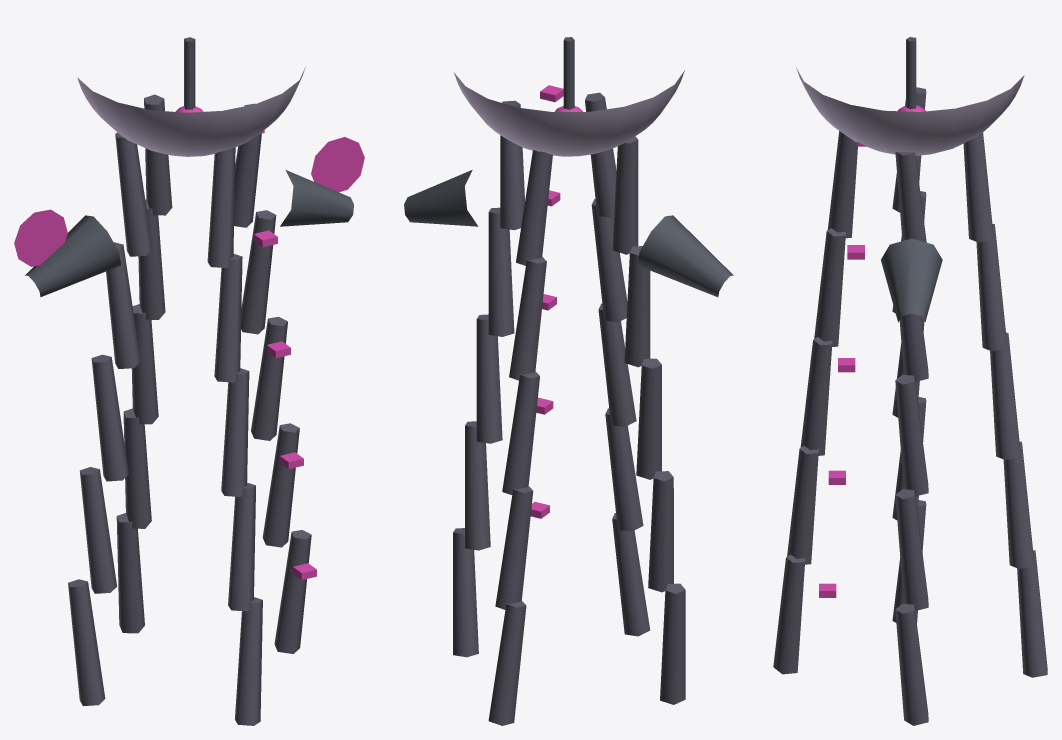
Rendered from grove-lens.glb.
The picture shows the model from 3 angles, left to right: view 1: azimuth 30°, elevation 25°; view 2: azimuth 150°, elevation 25°; view 3: azimuth 270°, elevation 25°; orthographic projection.
Parts seen in each view (by area): view 1: body, crystal; view 2: body; view 3: body.
Boxes of the visible parts, x1,y1,x2,y2 form: body: (25, 37, 364, 725); crystal: (14, 209, 67, 266); body: (404, 37, 733, 725); body: (773, 37, 1047, 725).
Size of the model in its own units: 1.67 by 2.9 by 1.14.
